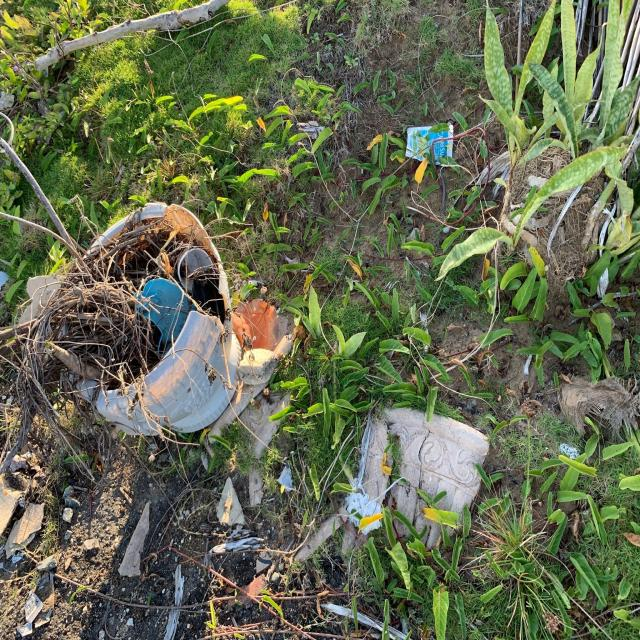litter: (398, 119, 458, 173)
